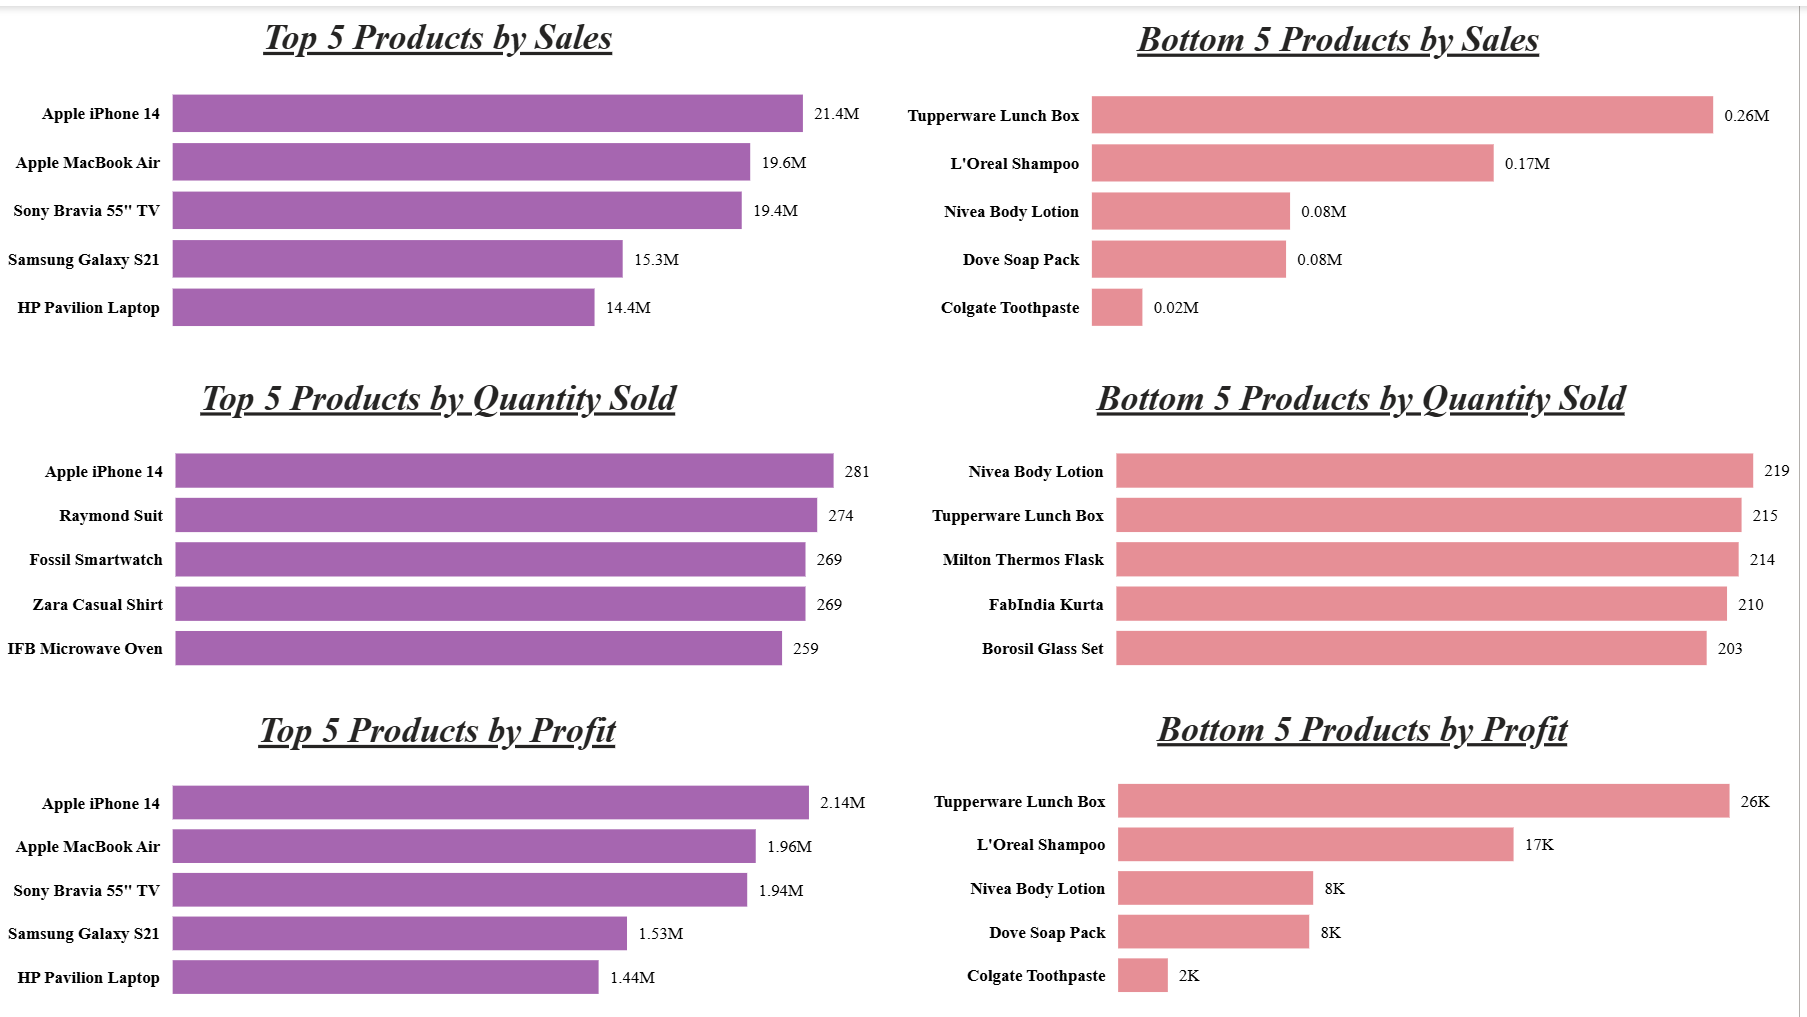

What the dashboard file says about the page in this screenshot:
{"tool":"powerbi","page":{"name":"Top/Bottom 5 Analysis","canvas":[1280,720],"ordinal":1},"visuals":[{"type":"barChart","title":"Top 5 Products by Sales","fields":{"Category":["Dim Product.Product Name"],"Y":["Sum(Fact Table.Net Sales   )"]},"box":[0,7.4,625,239.6],"z":0},{"type":"barChart","title":"Bottom 5 Products by Sales","fields":{"Category":["Dim Product.Product Name"],"Y":["Sum(Fact Table.Net Sales   )"]},"box":[639.9,8.9,626.5,238.1],"z":1000},{"type":"barChart","title":"Top 5 Products by Quantity Sold","fields":{"Category":["Dim Product.Product Name"],"Y":["Sum(Fact Table.Units Sold)"]},"box":[0,263.4,625,223.2],"z":2000},{"type":"barChart","title":"Bottom 5 Products by Quantity Sold","fields":{"Category":["Dim Product.Product Name"],"Y":["Sum(Fact Table.Units Sold)"]},"box":[656.7,263.2,623.6,223.1],"z":3000},{"type":"barChart","title":"Top 5 Products by Profit","fields":{"Category":["Dim Product.Product Name"],"Y":["Sum(Fact Table.Profit)"]},"box":[0,500,623.5,220.2],"z":4000},{"type":"barChart","title":"Bottom 5 Products by Profit","fields":{"Category":["Dim Product.Product Name"],"Y":["Sum(Fact Table.Profit)"]},"box":[657.4,499.2,623.3,220.2],"z":5000}]}

Visuals, with their boxes in screenshot pixels (x1, y1, x2, y2), scaled from the page's 1280x720 canvas onto the 1807x1017 screenshot:
"Top 5 Products by Sales" barChart: detection(0, 10, 882, 349)
"Bottom 5 Products by Sales" barChart: detection(903, 13, 1788, 349)
"Top 5 Products by Quantity Sold" barChart: detection(0, 372, 882, 687)
"Bottom 5 Products by Quantity Sold" barChart: detection(927, 372, 1806, 687)
"Top 5 Products by Profit" barChart: detection(0, 706, 880, 1016)
"Bottom 5 Products by Profit" barChart: detection(928, 705, 1806, 1016)
